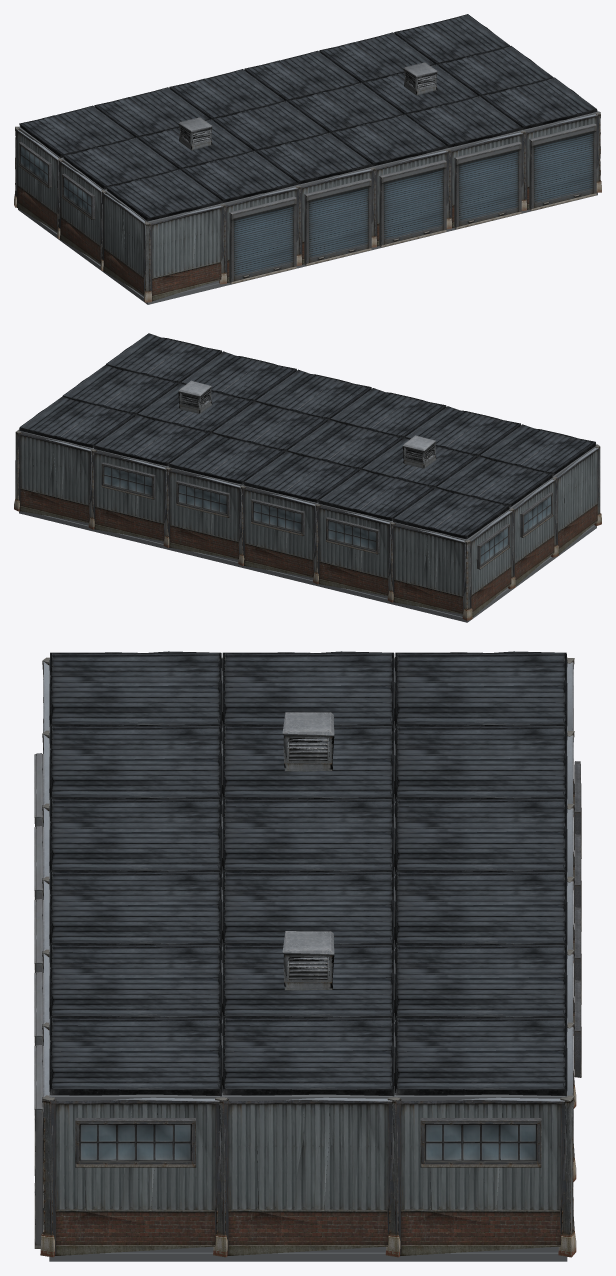
Rendered from long-freight-shed.glb.
3 views of the same model, one above another, from view 1: azimuth 30°, elevation 25°; view 2: azimuth 150°, elevation 25°; view 3: azimuth 270°, elevation 25° (orthographic). The views are drawn at different scales.
Visible parts, largest first — view 1: wall_054, door_068, door_086, door_092, door_074, door_080, roof_001, roof_046, roof_010, roof_037, roof_019, roof_028 (+26 smaller); view 2: wall_061, wall_101, wall_087, wall_069, wall_081, wall_075, roof_007, roof_025, roof_052, roof_016, roof_034, roof_043 (+25 smaller); view 3: wall_096, wall_093, wall_098, roof_049, roof_052, roof_046, roof_022, roof_043, roof_034, roof_025, roof_016, roof_037 (+25 smaller).
Boxes of the visible parts, box(x1,y1,x2,y2) form: wall_054: box(149, 205, 224, 301); door_068: box(229, 196, 296, 284); door_086: box(454, 142, 521, 229); door_092: box(529, 123, 596, 210); door_074: box(304, 178, 371, 265); door_080: box(379, 160, 446, 247); roof_001: box(106, 169, 222, 221); roof_046: box(481, 77, 597, 129); roof_010: box(181, 150, 297, 202); roof_037: box(406, 95, 522, 147); roof_019: box(256, 132, 372, 184); roof_028: box(331, 114, 447, 166); wall_061: box(391, 524, 466, 614); wall_101: box(17, 433, 92, 522); wall_087: box(92, 451, 167, 541); wall_069: box(316, 506, 391, 595); wall_081: box(167, 469, 241, 559); wall_075: box(242, 487, 316, 577); roof_007: box(393, 487, 509, 539); roof_025: box(243, 451, 359, 502); roof_052: box(19, 396, 135, 448); roof_016: box(318, 469, 434, 520); roof_034: box(168, 433, 285, 484); roof_043: box(94, 414, 210, 466); wall_096: box(222, 1097, 394, 1255); wall_093: box(49, 1097, 221, 1255); wall_098: box(395, 1097, 566, 1255); roof_049: box(222, 1016, 394, 1096); roof_052: box(394, 1016, 567, 1096); roof_046: box(49, 1016, 221, 1096); roof_022: box(222, 797, 394, 875); roof_043: box(394, 943, 567, 1019); roof_034: box(394, 870, 567, 946); roof_025: box(394, 797, 567, 873); roof_016: box(394, 724, 567, 800); roof_037: box(49, 943, 221, 1022).
Size of the model in its own units: 24.66 by 5.41 by 12.68.
7 materials, 6 textured.
